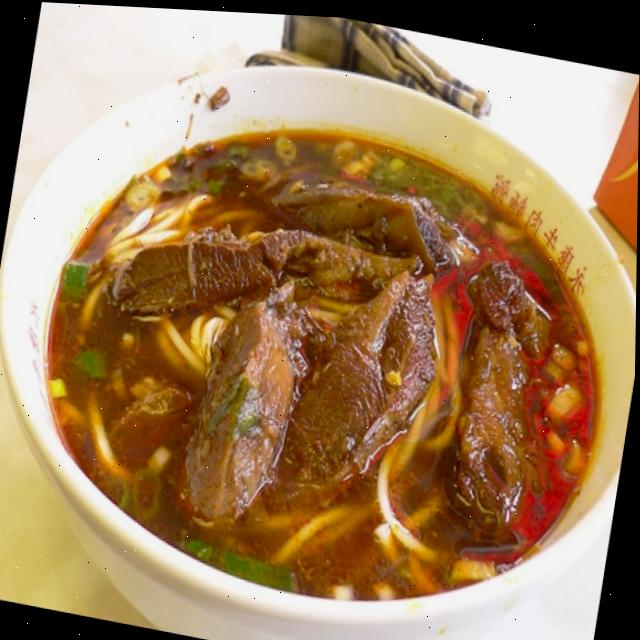面条主食: (0, 20, 640, 640)
